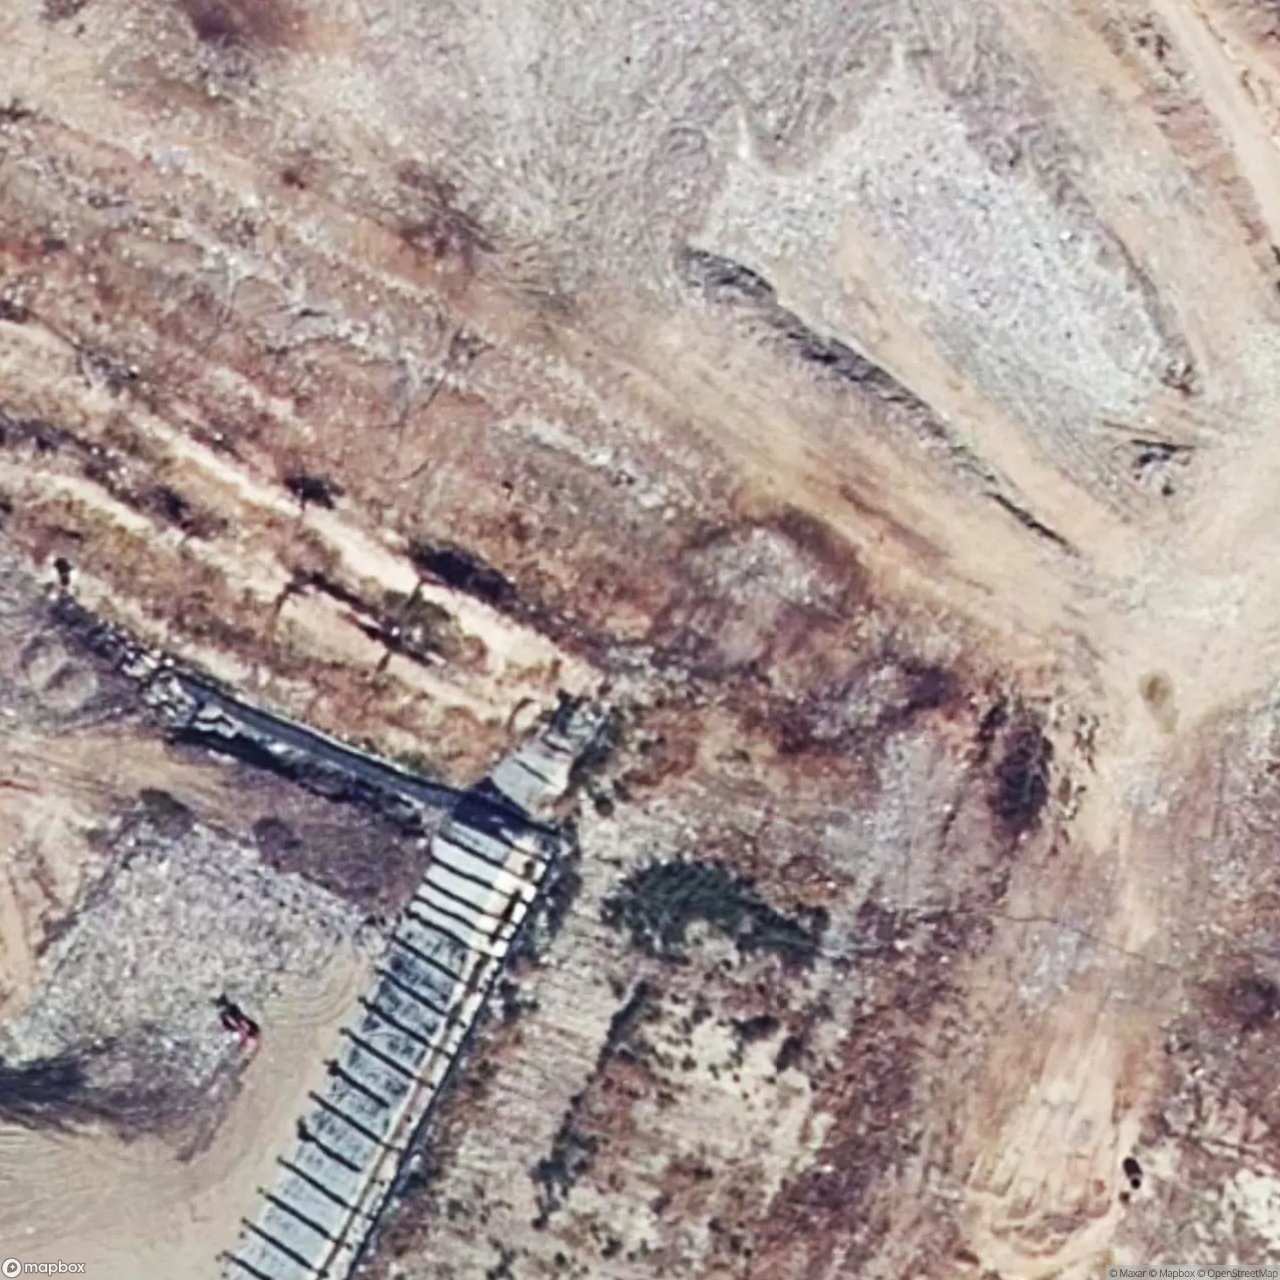dump_site: (433, 472, 1155, 1280), (0, 753, 414, 1155)
